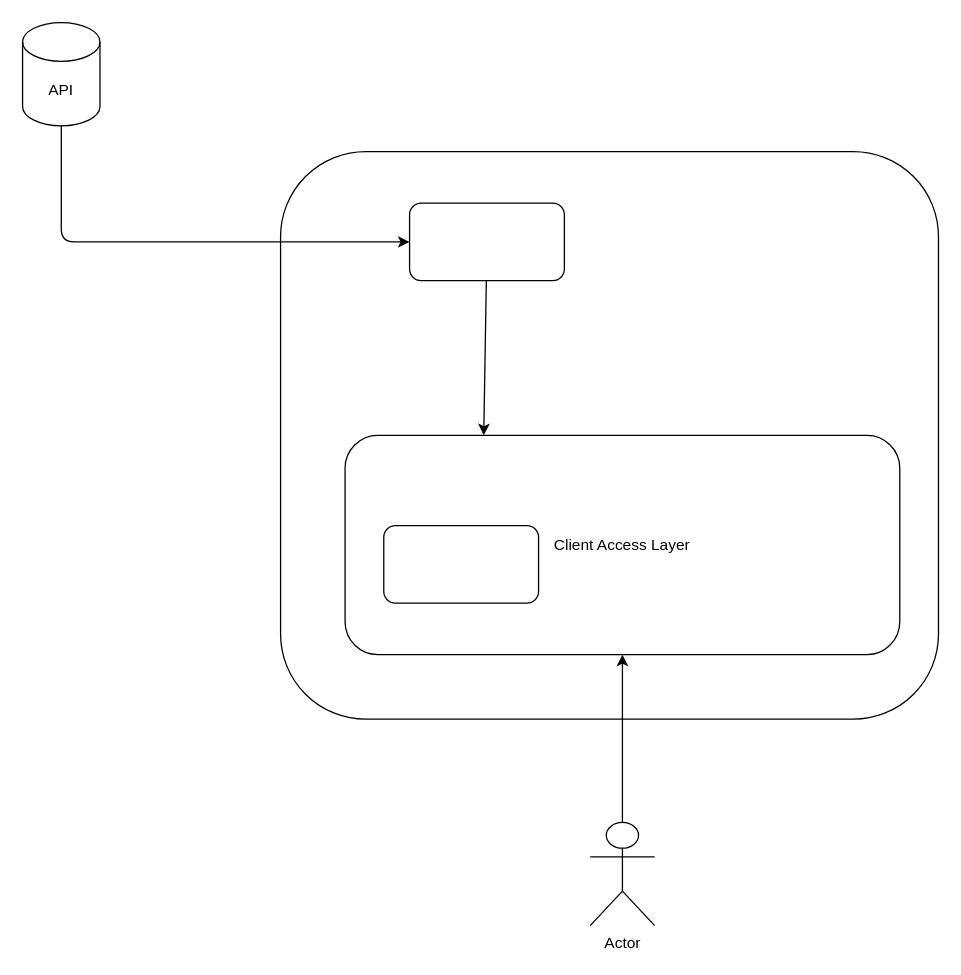
Some shapes in this 961 by 975 pixel diagram are drawn without their labels. The centre of each missing label's shape, as x and y in pixels:
"API Manage" belongs at point 486,241.
"Login Section" belongs at point 460,563.
